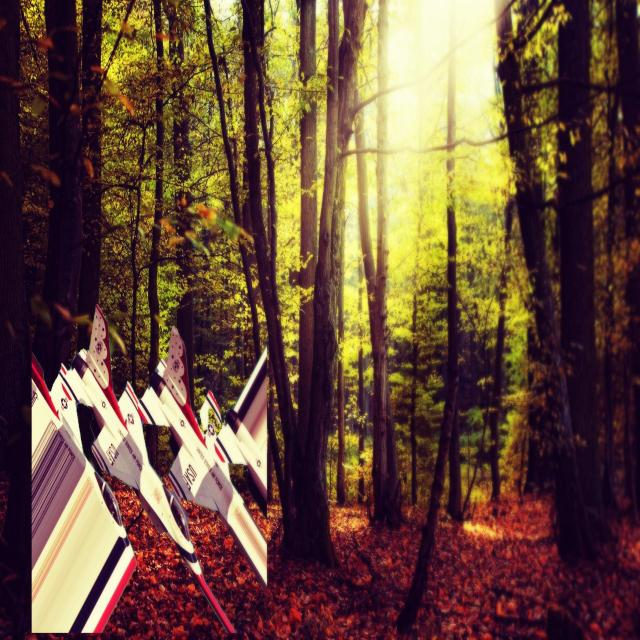airplane: (36, 297, 236, 633), (137, 320, 267, 582)
